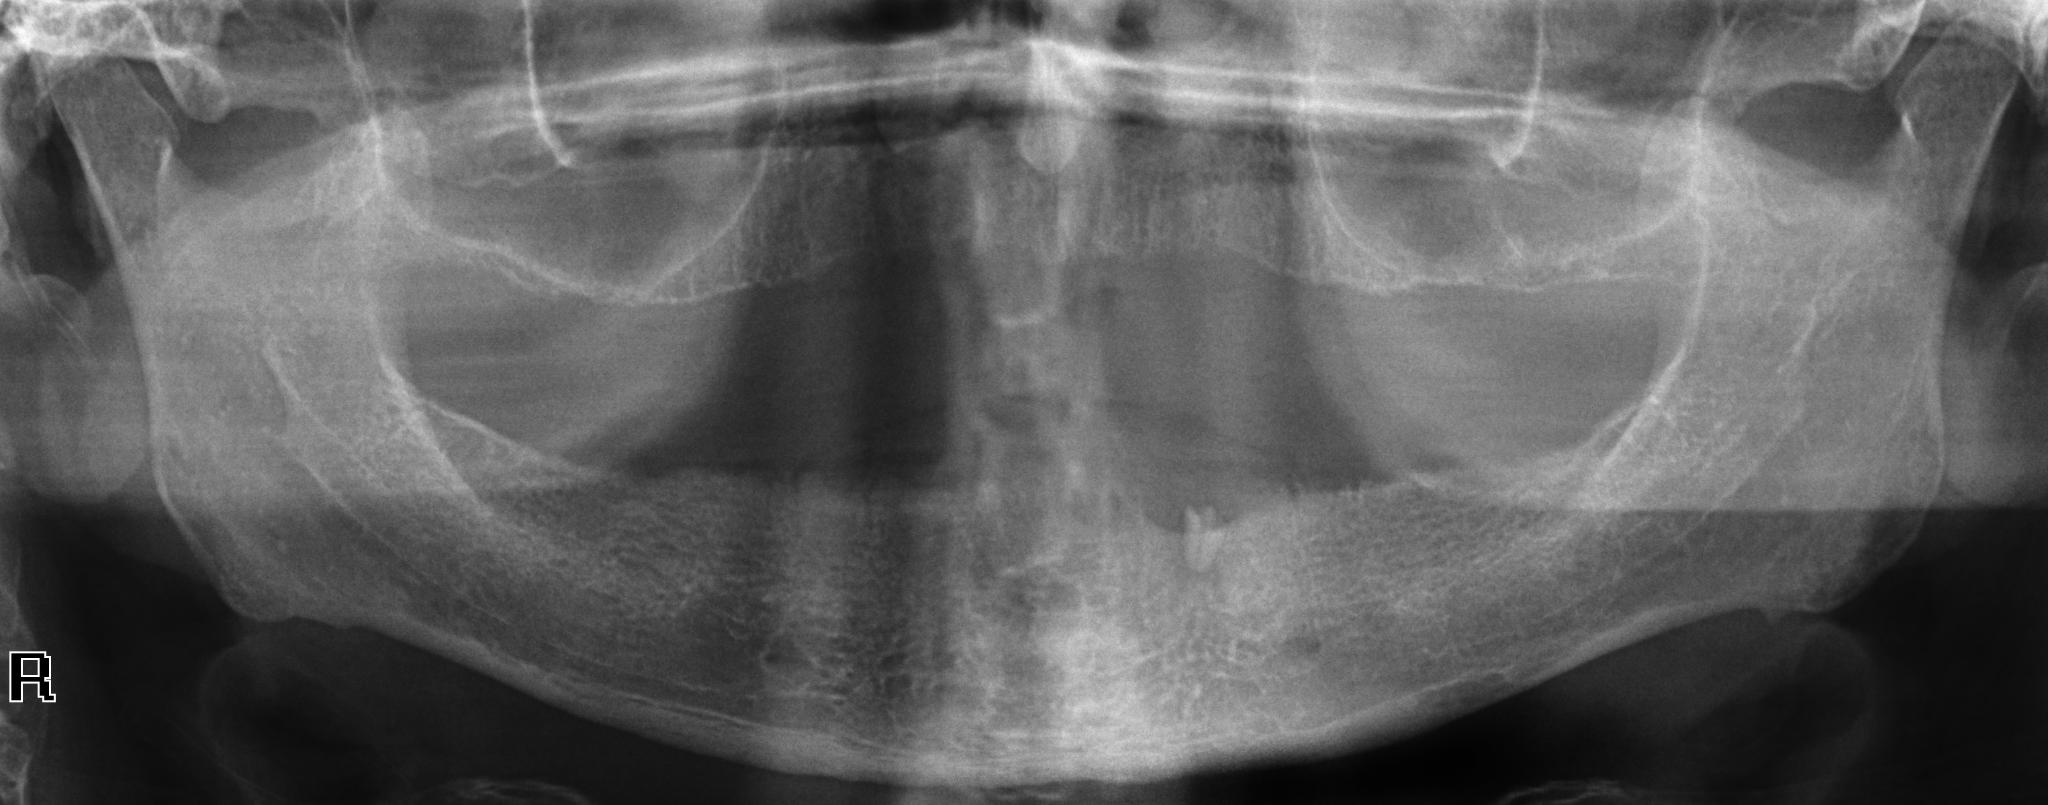Impacted Tooth: (8, 0, 232, 125)
